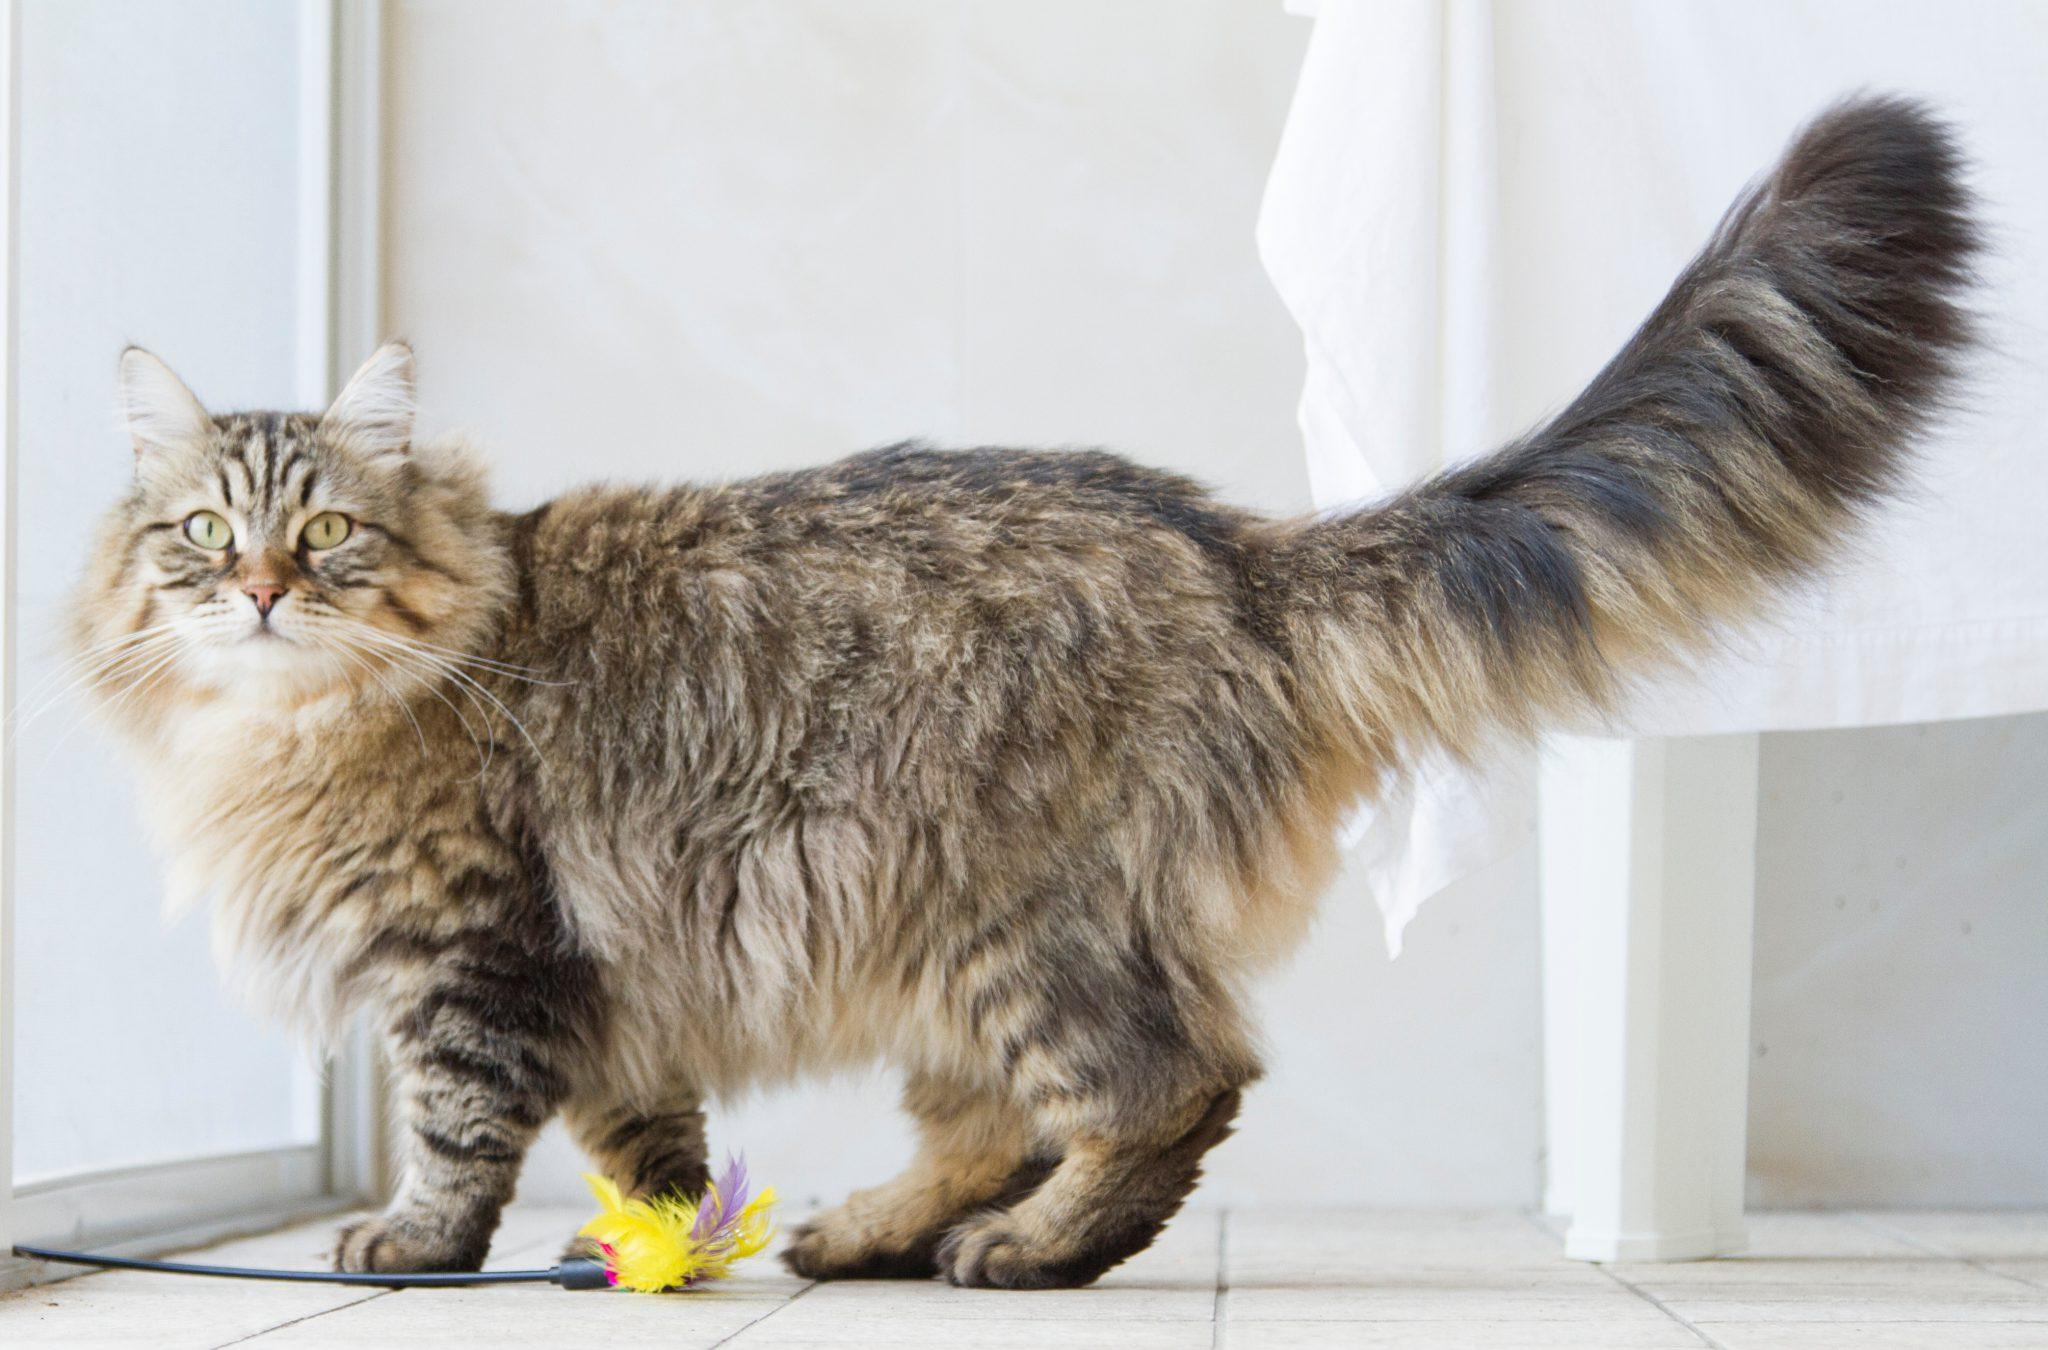cat: (63, 107, 1970, 1293)
